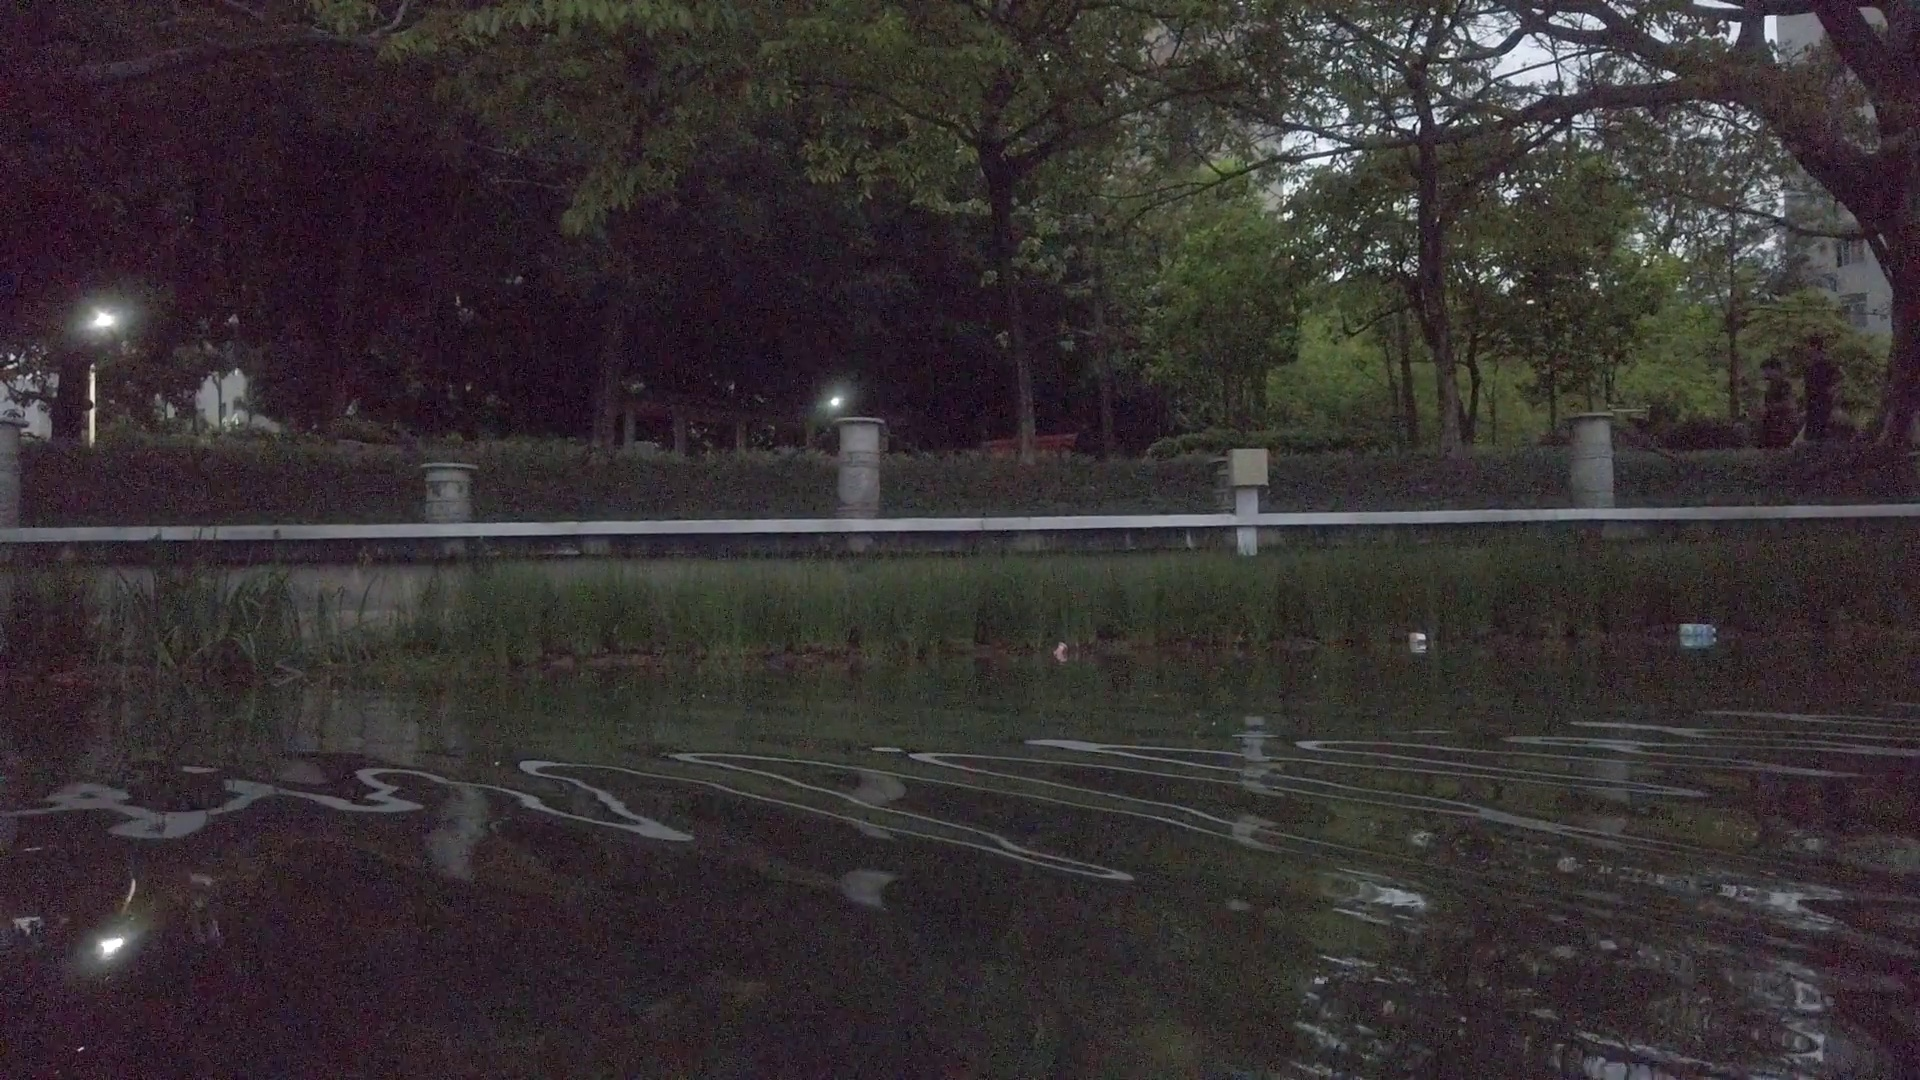bottle: (1680, 621, 1717, 636), (1052, 644, 1065, 655)
carton: (1408, 630, 1425, 644)
